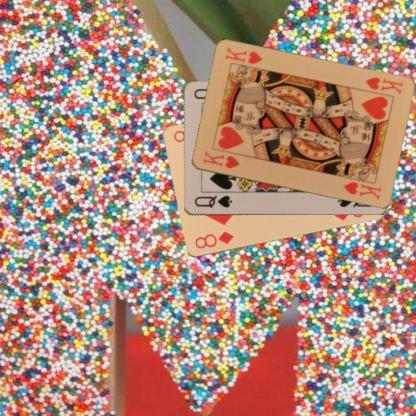8d: (192, 228, 234, 250)
Kh: (362, 74, 404, 96), (200, 148, 240, 170)
Qs: (192, 193, 233, 210)
